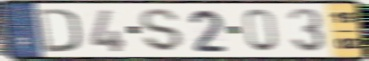0: (242, 8, 280, 53)
2: (185, 6, 233, 54)
3: (287, 7, 327, 54)
4: (89, 7, 128, 54)
D: (35, 7, 82, 54)
S: (138, 7, 185, 54)
